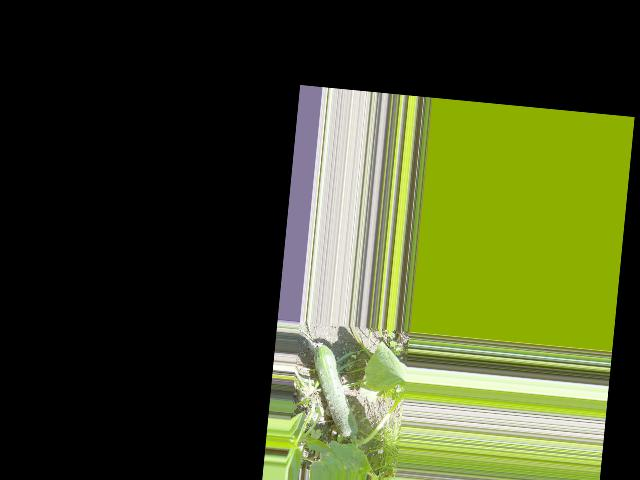cucumber: (306, 342, 365, 439)
